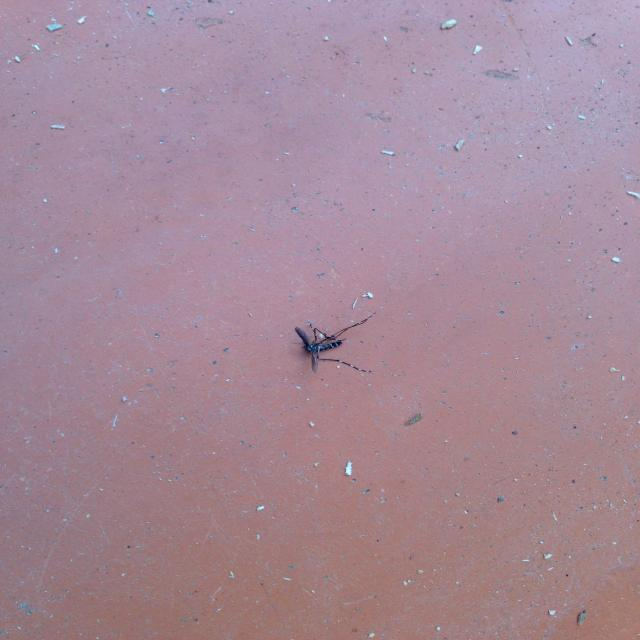albopictus: (286, 309, 379, 378)
